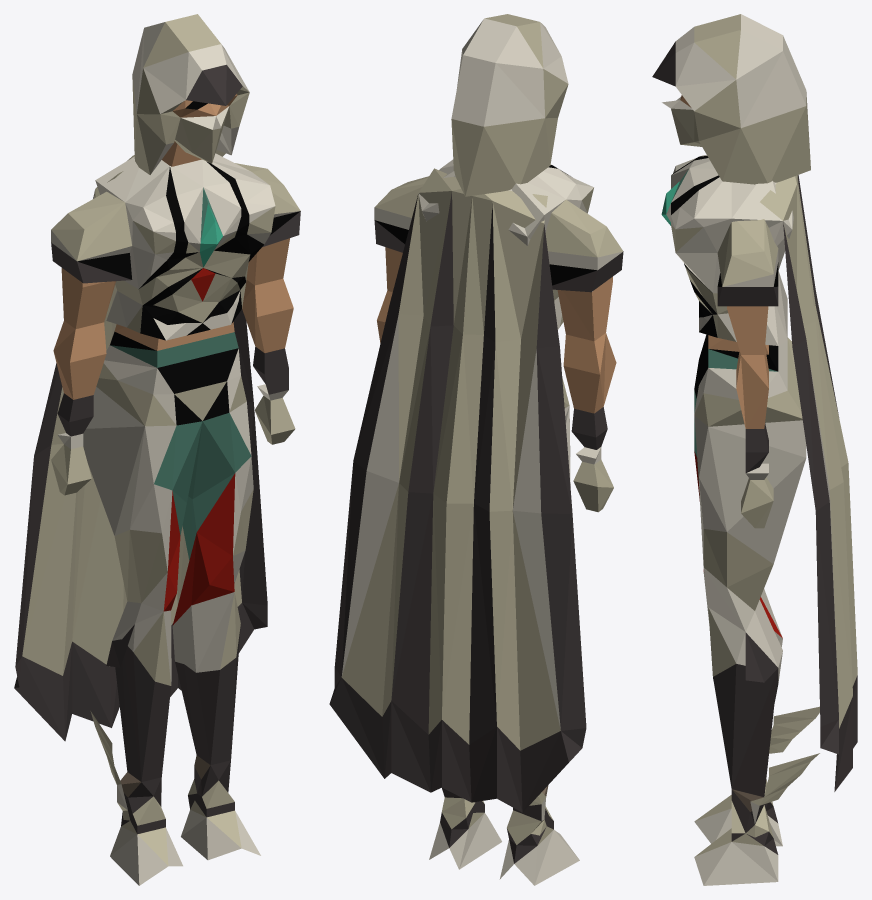
Rendered from reward-shops.gltf.
3 views of the same model, side by side, from view 1: azimuth 30°, elevation 25°; view 2: azimuth 150°, elevation 25°; view 3: azimuth 270°, elevation 25° (orthographic).
Bounding box in the file's own units: 62 × 197 × 44.
Materials: 1 (1 with a texture image).
